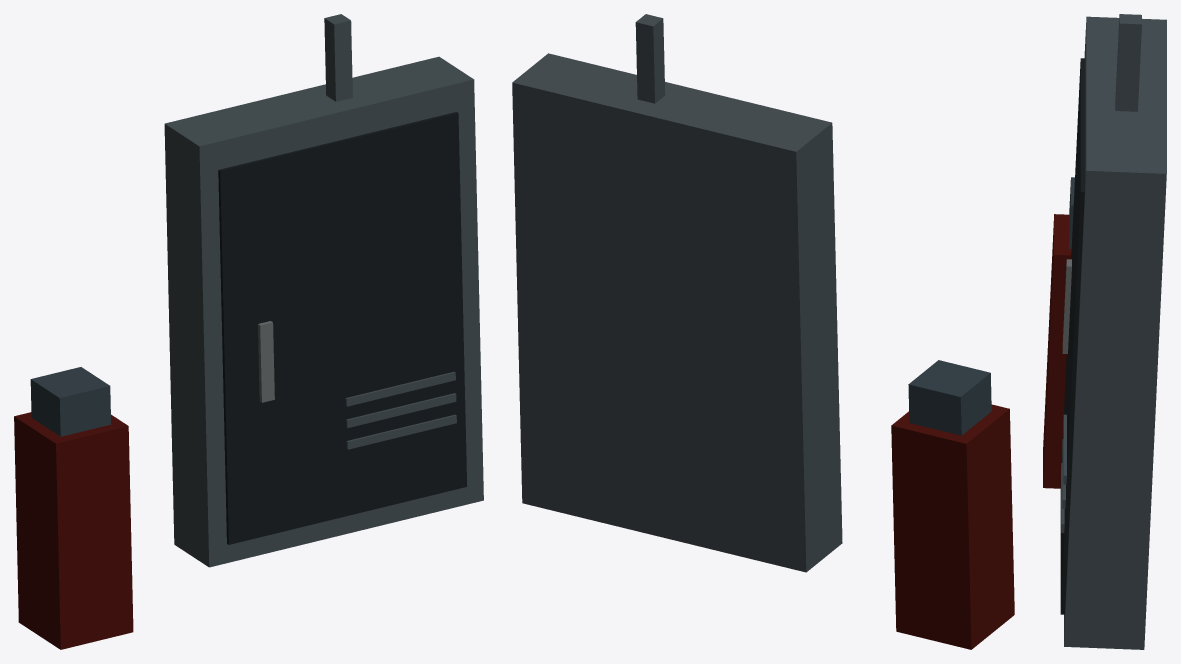
Rendered from emergency-panel-kit.obj.
The picture shows the model from 3 angles, left to right: view 1: azimuth 30°, elevation 25°; view 2: azimuth 150°, elevation 25°; view 3: azimuth 270°, elevation 25°; orthographic projection. The views are drawn at different scales.
Visible parts, largest first — view 1: APAR_Kotak_Listrik; view 2: APAR_Kotak_Listrik; view 3: APAR_Kotak_Listrik.
Boxes of the visible parts, bbox=[...] form: APAR_Kotak_Listrik: bbox=[14, 14, 483, 649]; APAR_Kotak_Listrik: bbox=[512, 14, 1014, 649]; APAR_Kotak_Listrik: bbox=[1043, 14, 1166, 649].
Size of the model in its own units: 1.07 by 1.25 by 0.2306.
